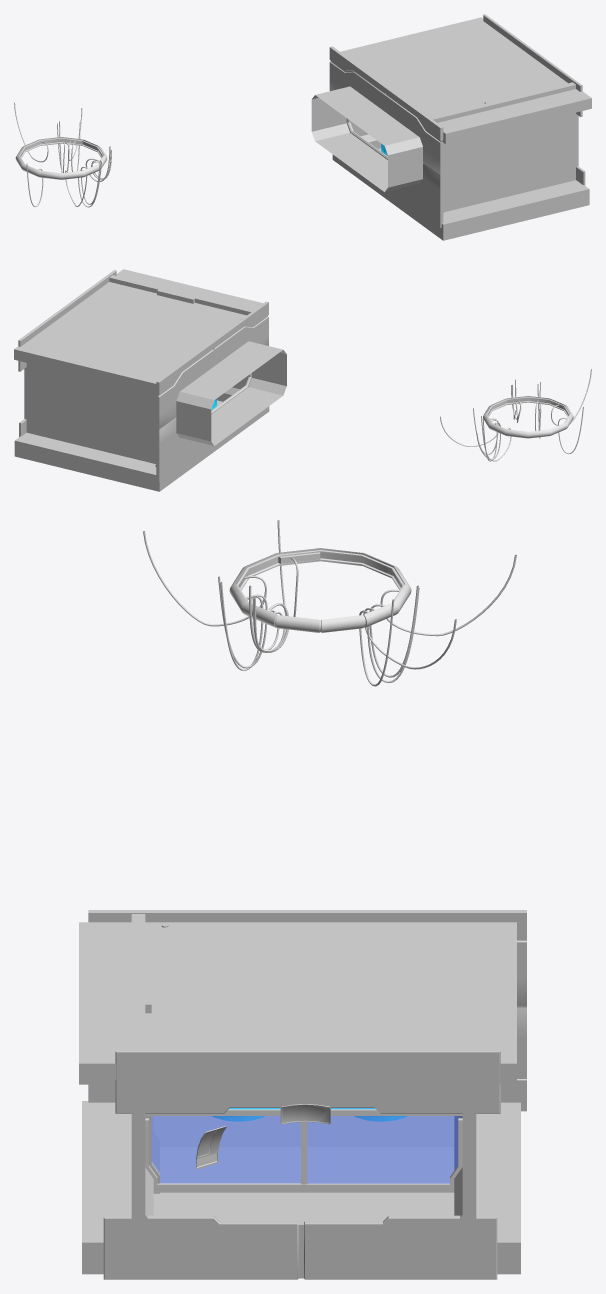
File: Factory_mk2.fbx
The picture shows the model from 3 angles, top to bottom: view 1: azimuth 30°, elevation 25°; view 2: azimuth 150°, elevation 25°; view 3: azimuth 270°, elevation 25°; orthographic projection. The views are drawn at different scales.
Parts seen in each view (by area): view 1: Cube.004, Cube.007, Cube.005, Cube.003, Cube, Torus.001, Plane.001; view 2: Cube.004, Cube.001, Cube.005, Cube.003, Cube, Torus.001, Cube.007, Plane.001; view 3: Cube.004, Cube, Plane.002, Plane.001, Cube.016, Cube.009, Cube.011, Cube.003, Torus.001, Cube.007, Cube.018, Cube.001 (+2 smaller).
Boxes of the visible parts, x1,y1,x2,y2 form: Cube.004: (340,17,591,144); Cube.007: (429,82,578,211); Cube.005: (311,86,423,192); Cube.003: (329,46,444,227); Cube: (332,148,589,240); Torus.001: (15,137,107,179); Plane.001: (483,14,582,117); Cube.004: (14,269,262,394); Cube.001: (24,363,157,463); Cube.005: (176,341,286,445); Cube.003: (155,301,268,481); Cube: (14,400,269,491); Torus.001: (483,396,573,438); Cube.007: (109,275,254,401); Plane.001: (18,270,116,371); Cube.004: (79,922,516,1084); Cube: (82,1101,520,1274); Plane.002: (103,1215,497,1279); Plane.001: (115,1049,500,1113); Cube.016: (153,1147,454,1192); Cube.009: (307,1116,460,1183); Cube.011: (151,1116,300,1183); Cube.003: (88,910,526,1111); Torus.001: (229,548,411,632); Cube.007: (131,914,153,1218); Cube.018: (157,1183,449,1190); Cube.001: (454,1113,476,1218).
Bounding box in the file's own units: 1235 × 309 × 454.
